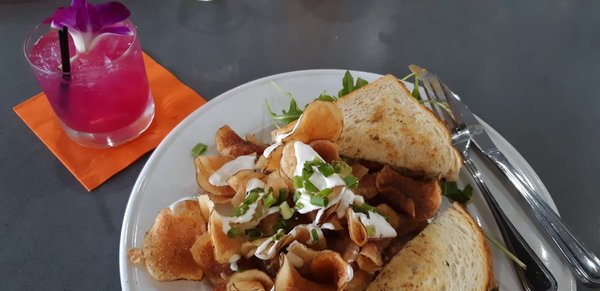burger: (405, 65, 600, 286)
pizza: (22, 2, 156, 149)
soup: (131, 73, 495, 289)
